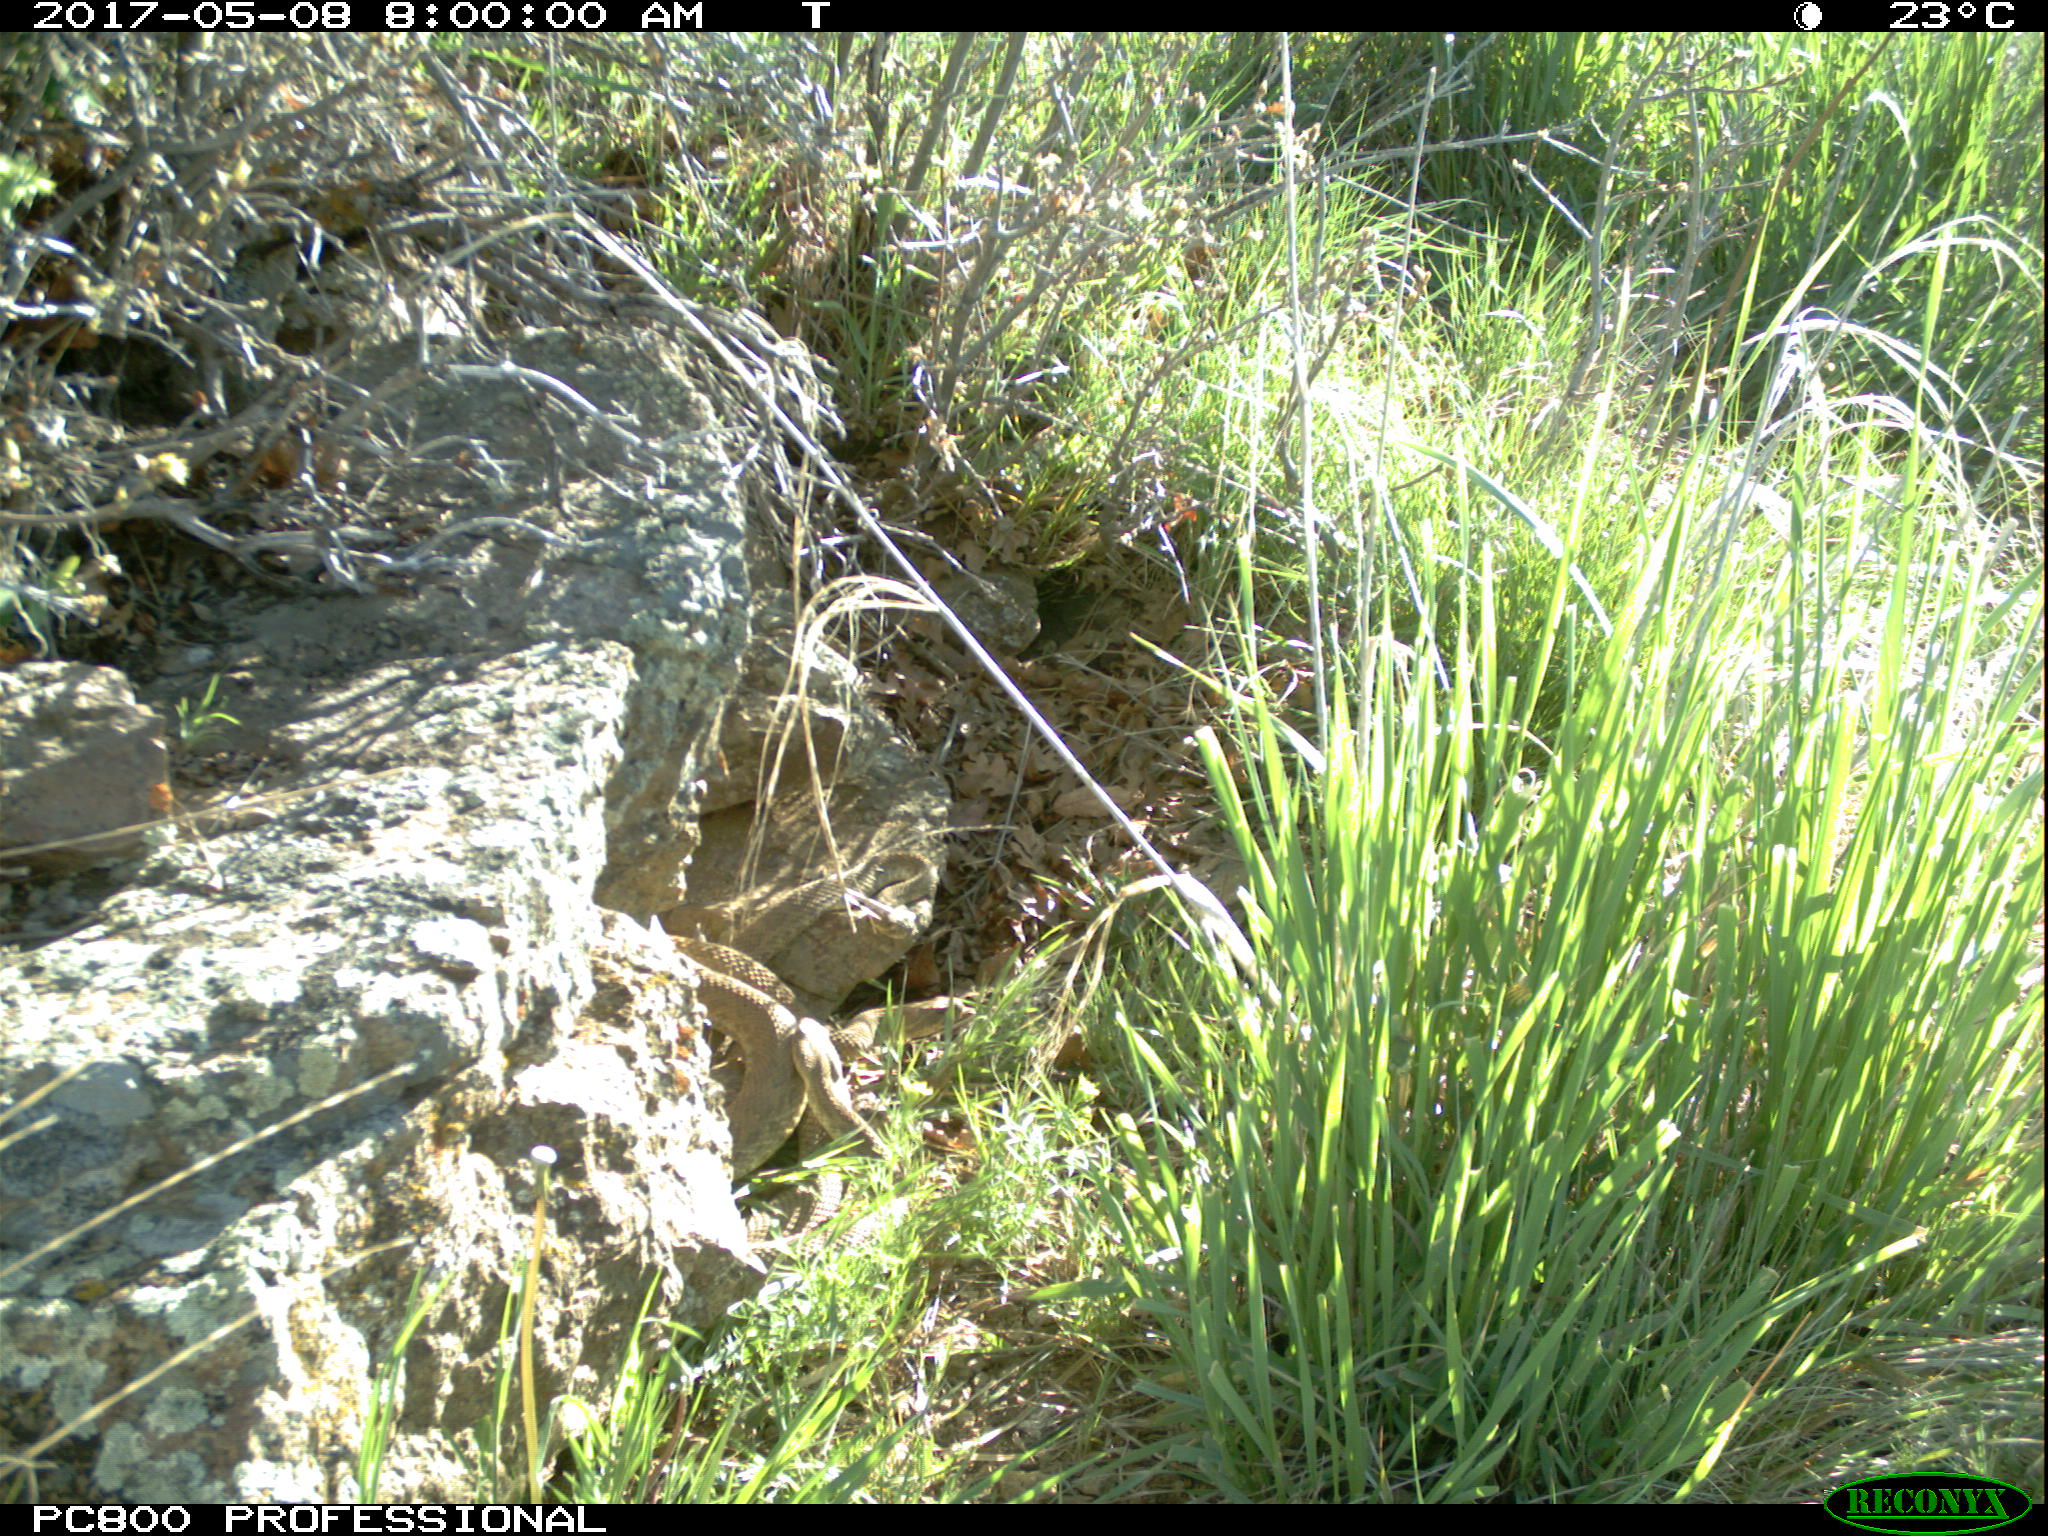snake: (676, 808, 964, 1212)
